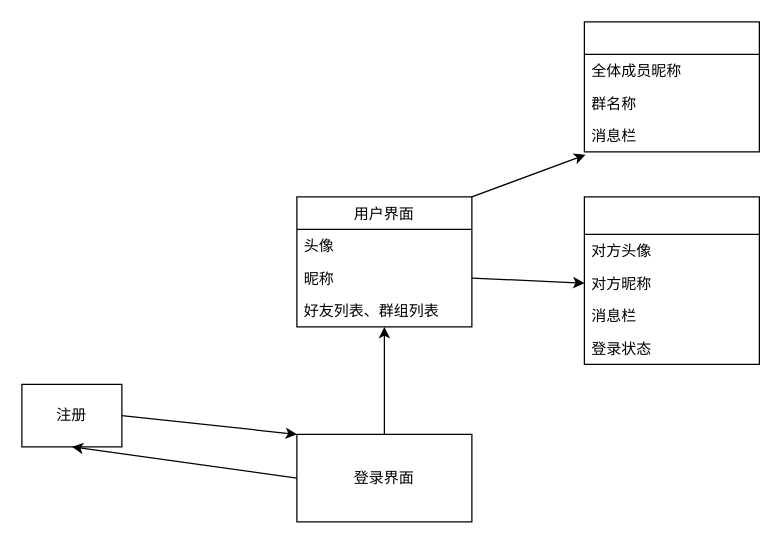
This 781x544 diagram has some shape labels left out. Each missing label, with the box of its shape:
群组窗口: (583, 21, 759, 152)
聊天窗口: (583, 196, 759, 364)
